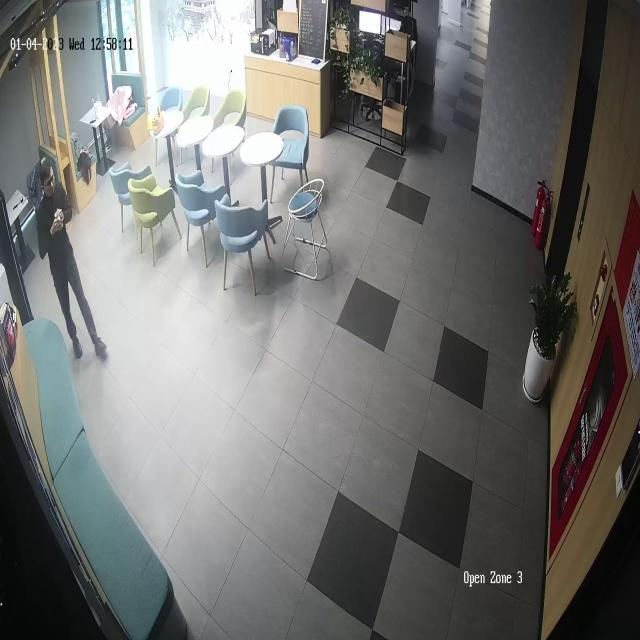person: (36, 156, 108, 361)
